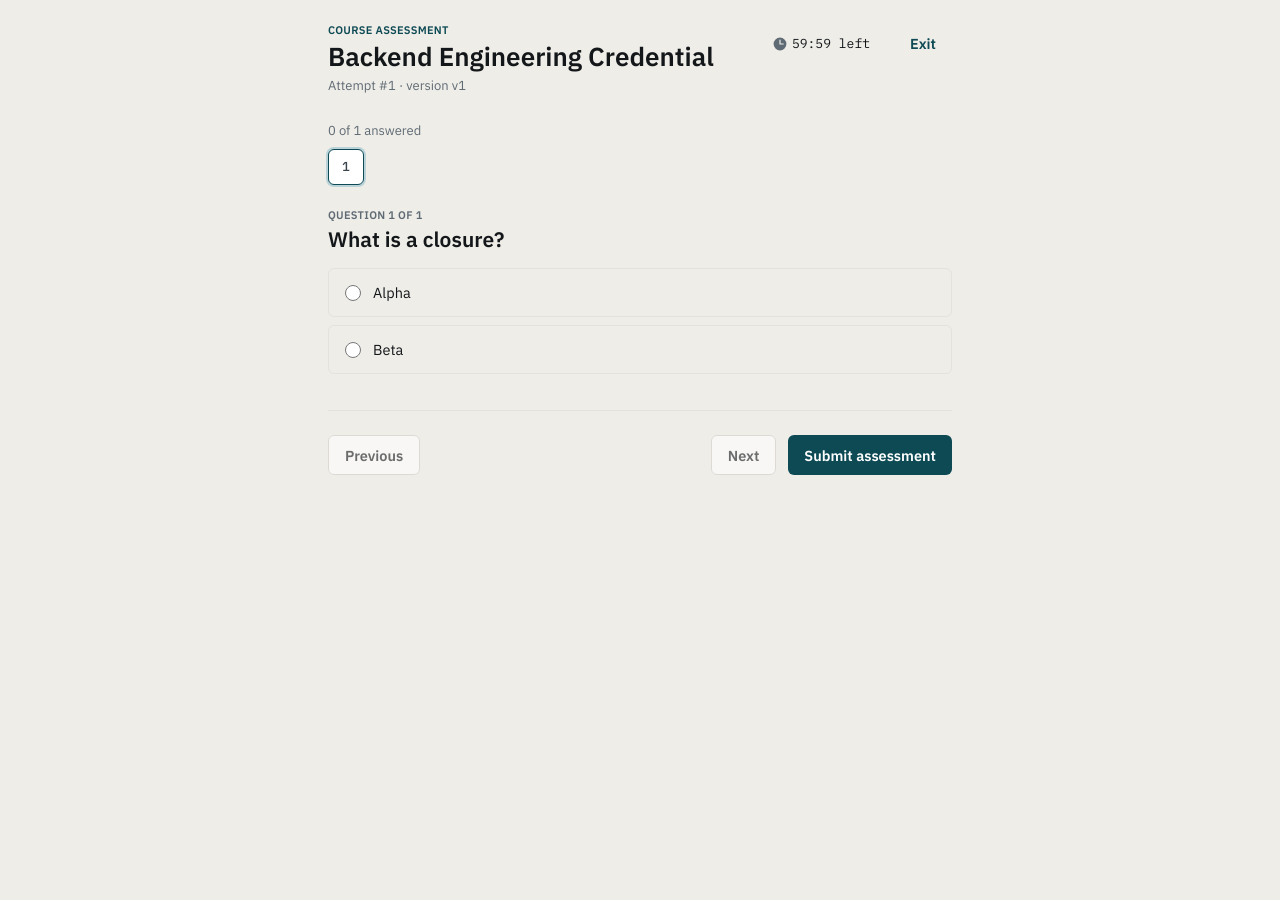
AttemptShell submission › renders the pass result after a successful submission
Check: the heading "What is a closure?" is shown, box [328,225,504,253]
What coordinates should you click on to do the following:
click the button "Submit assessment"
I would click on:
 (870, 456)
Its box is [788,436,952,476].
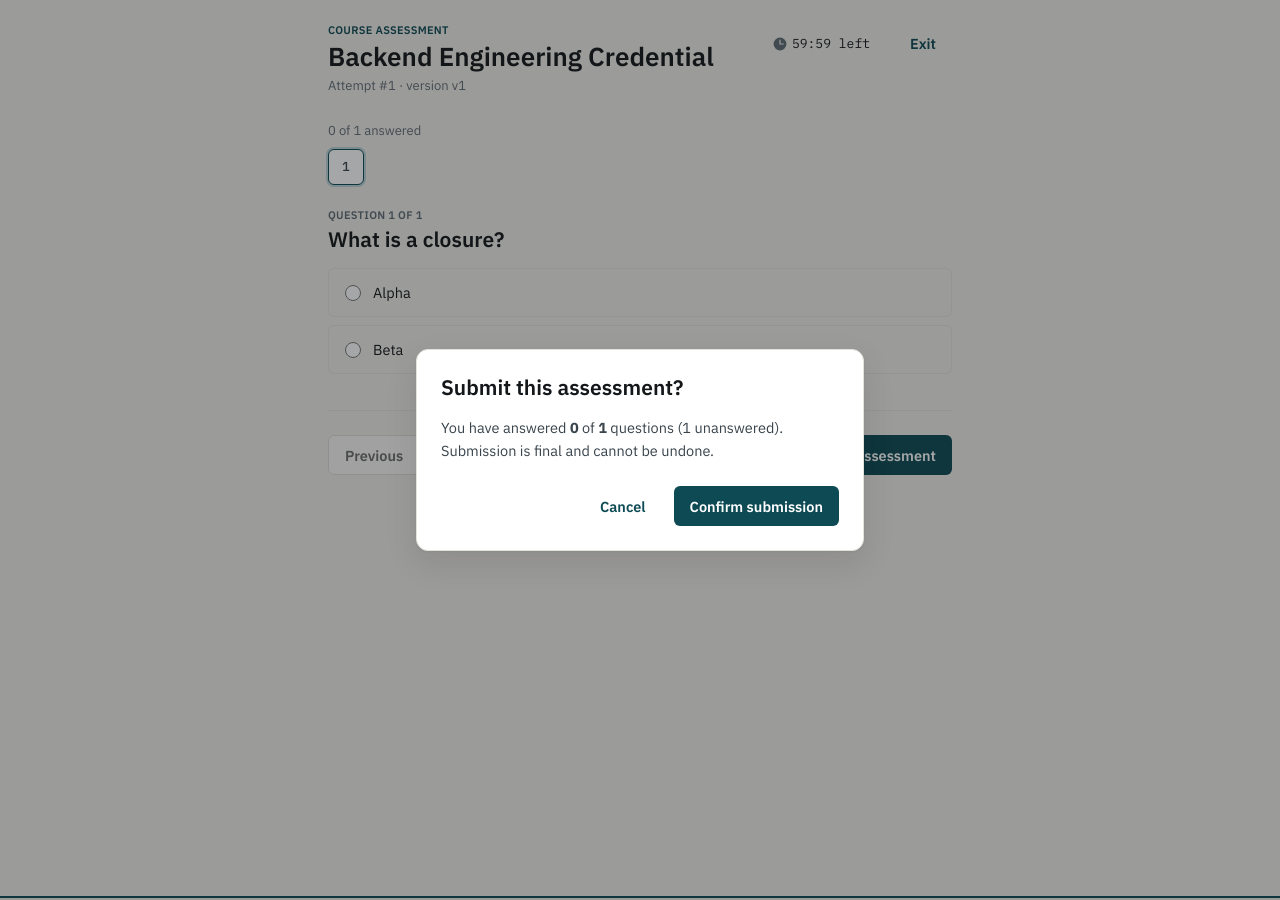
What coordinates should you click on to do the following:
click the button "Confirm submission"
I would click on:
 (756, 506)
Its box is [674,486,839,526].
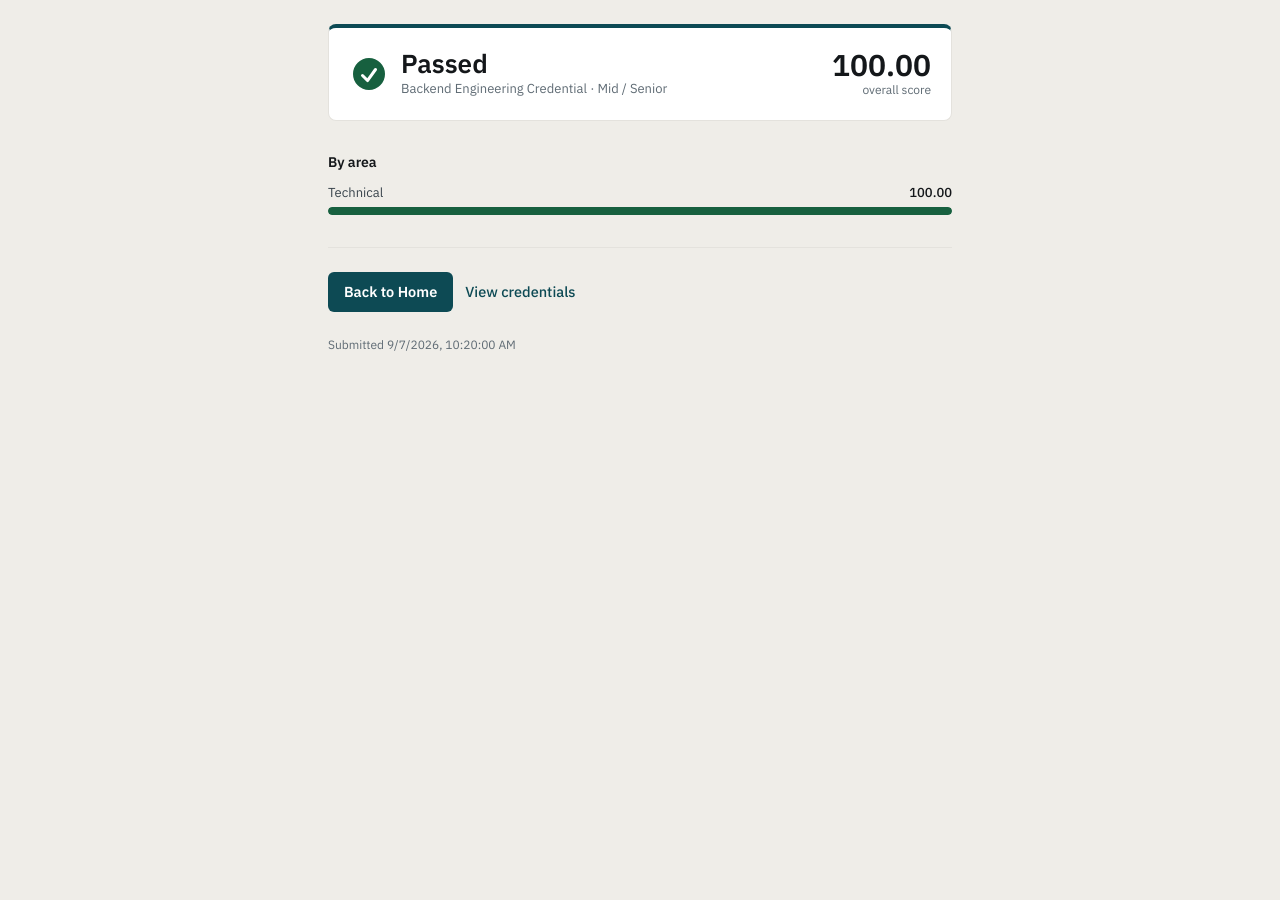
Check: the heading "Passed" is shown, box [401,46,488,80]
Check: the text "Technical" is shown, box [328,183,383,203]
